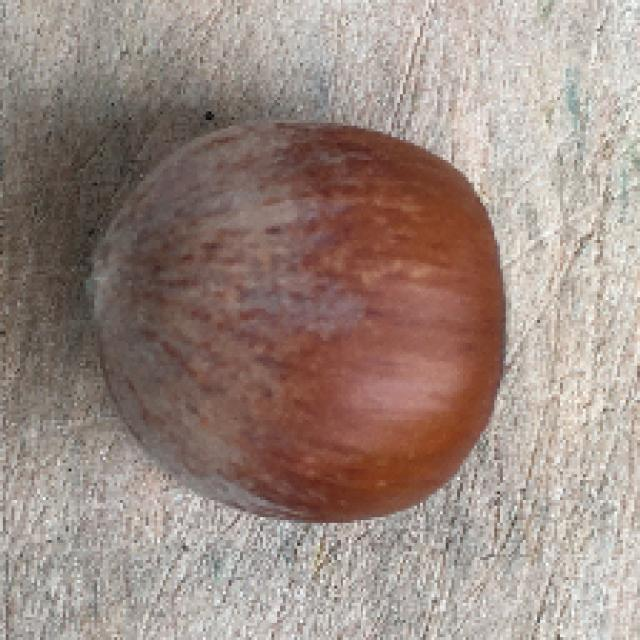QualityHazelnut: (82, 116, 509, 526)
